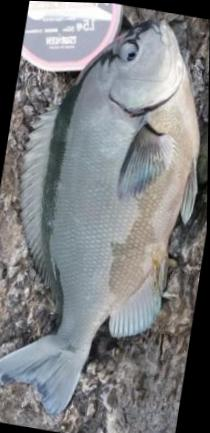fish: (0, 17, 201, 416)
